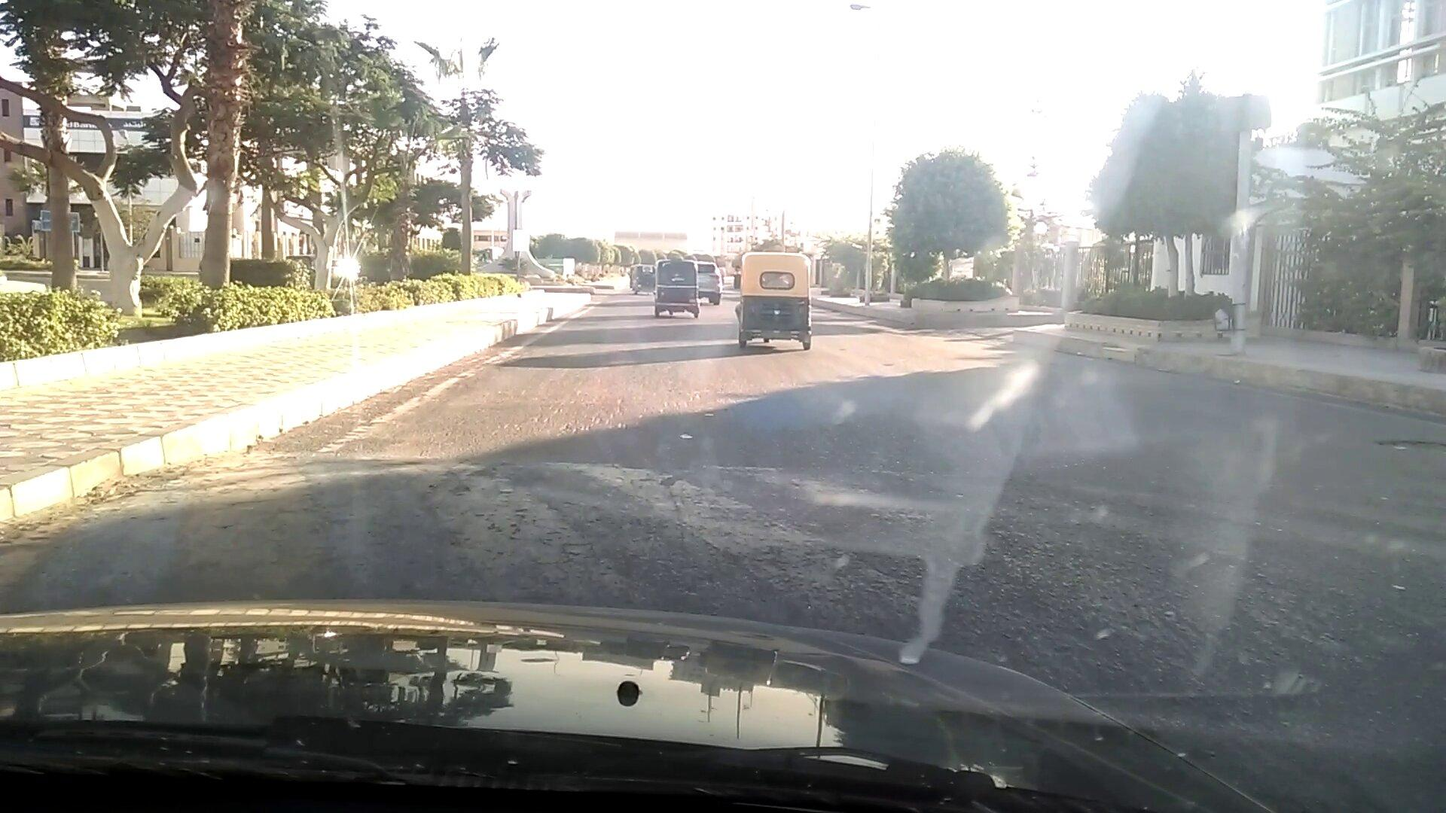Bump: (250, 470, 1446, 728)
